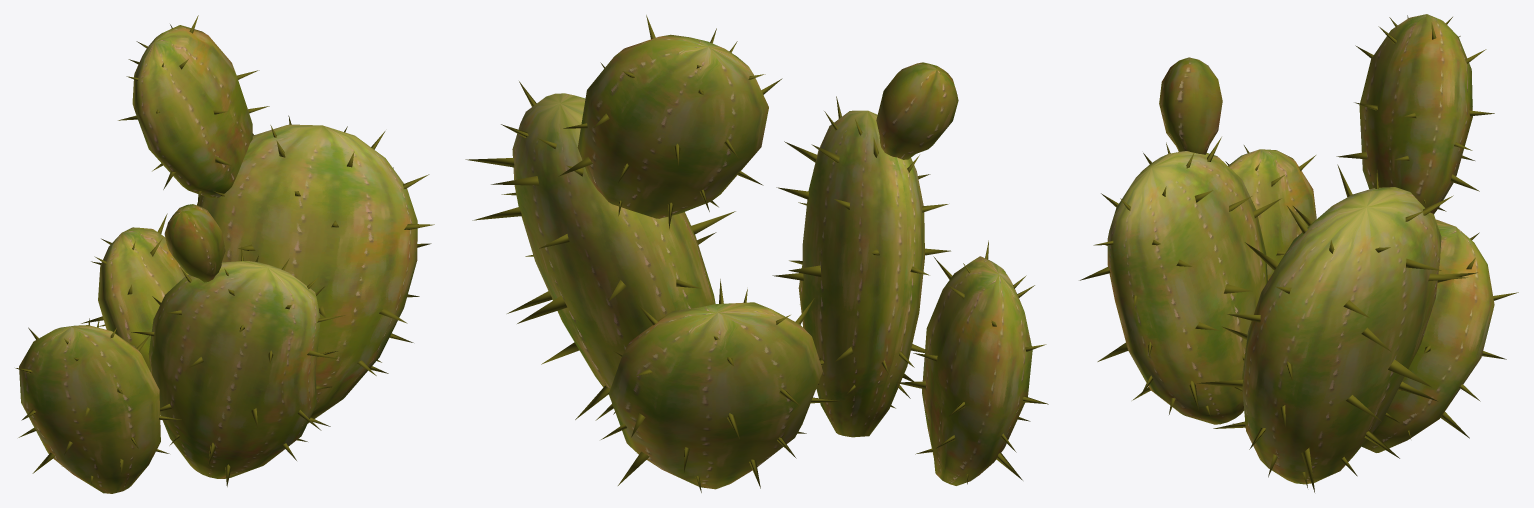
File: P_CactusPricklyPear02.obj
3 renders of one model, left to right at view 1: azimuth 30°, elevation 25°; view 2: azimuth 150°, elevation 25°; view 3: azimuth 270°, elevation 25°, orthographic. The views are drawn at different scales.
Size of the model in its own units: 1.28 by 1.11 by 0.9999.
